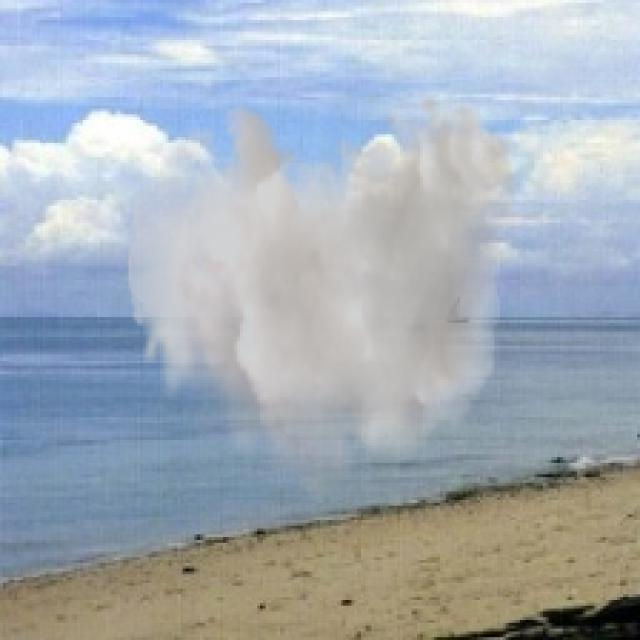Smoke: (125, 89, 518, 512)
